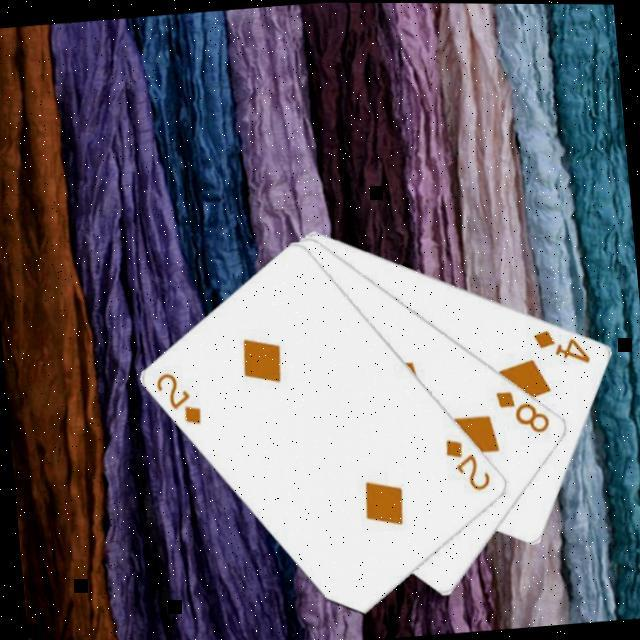2D: (439, 430, 493, 494), (150, 364, 204, 428)
4D: (526, 318, 592, 367)
8D: (490, 381, 552, 437)
